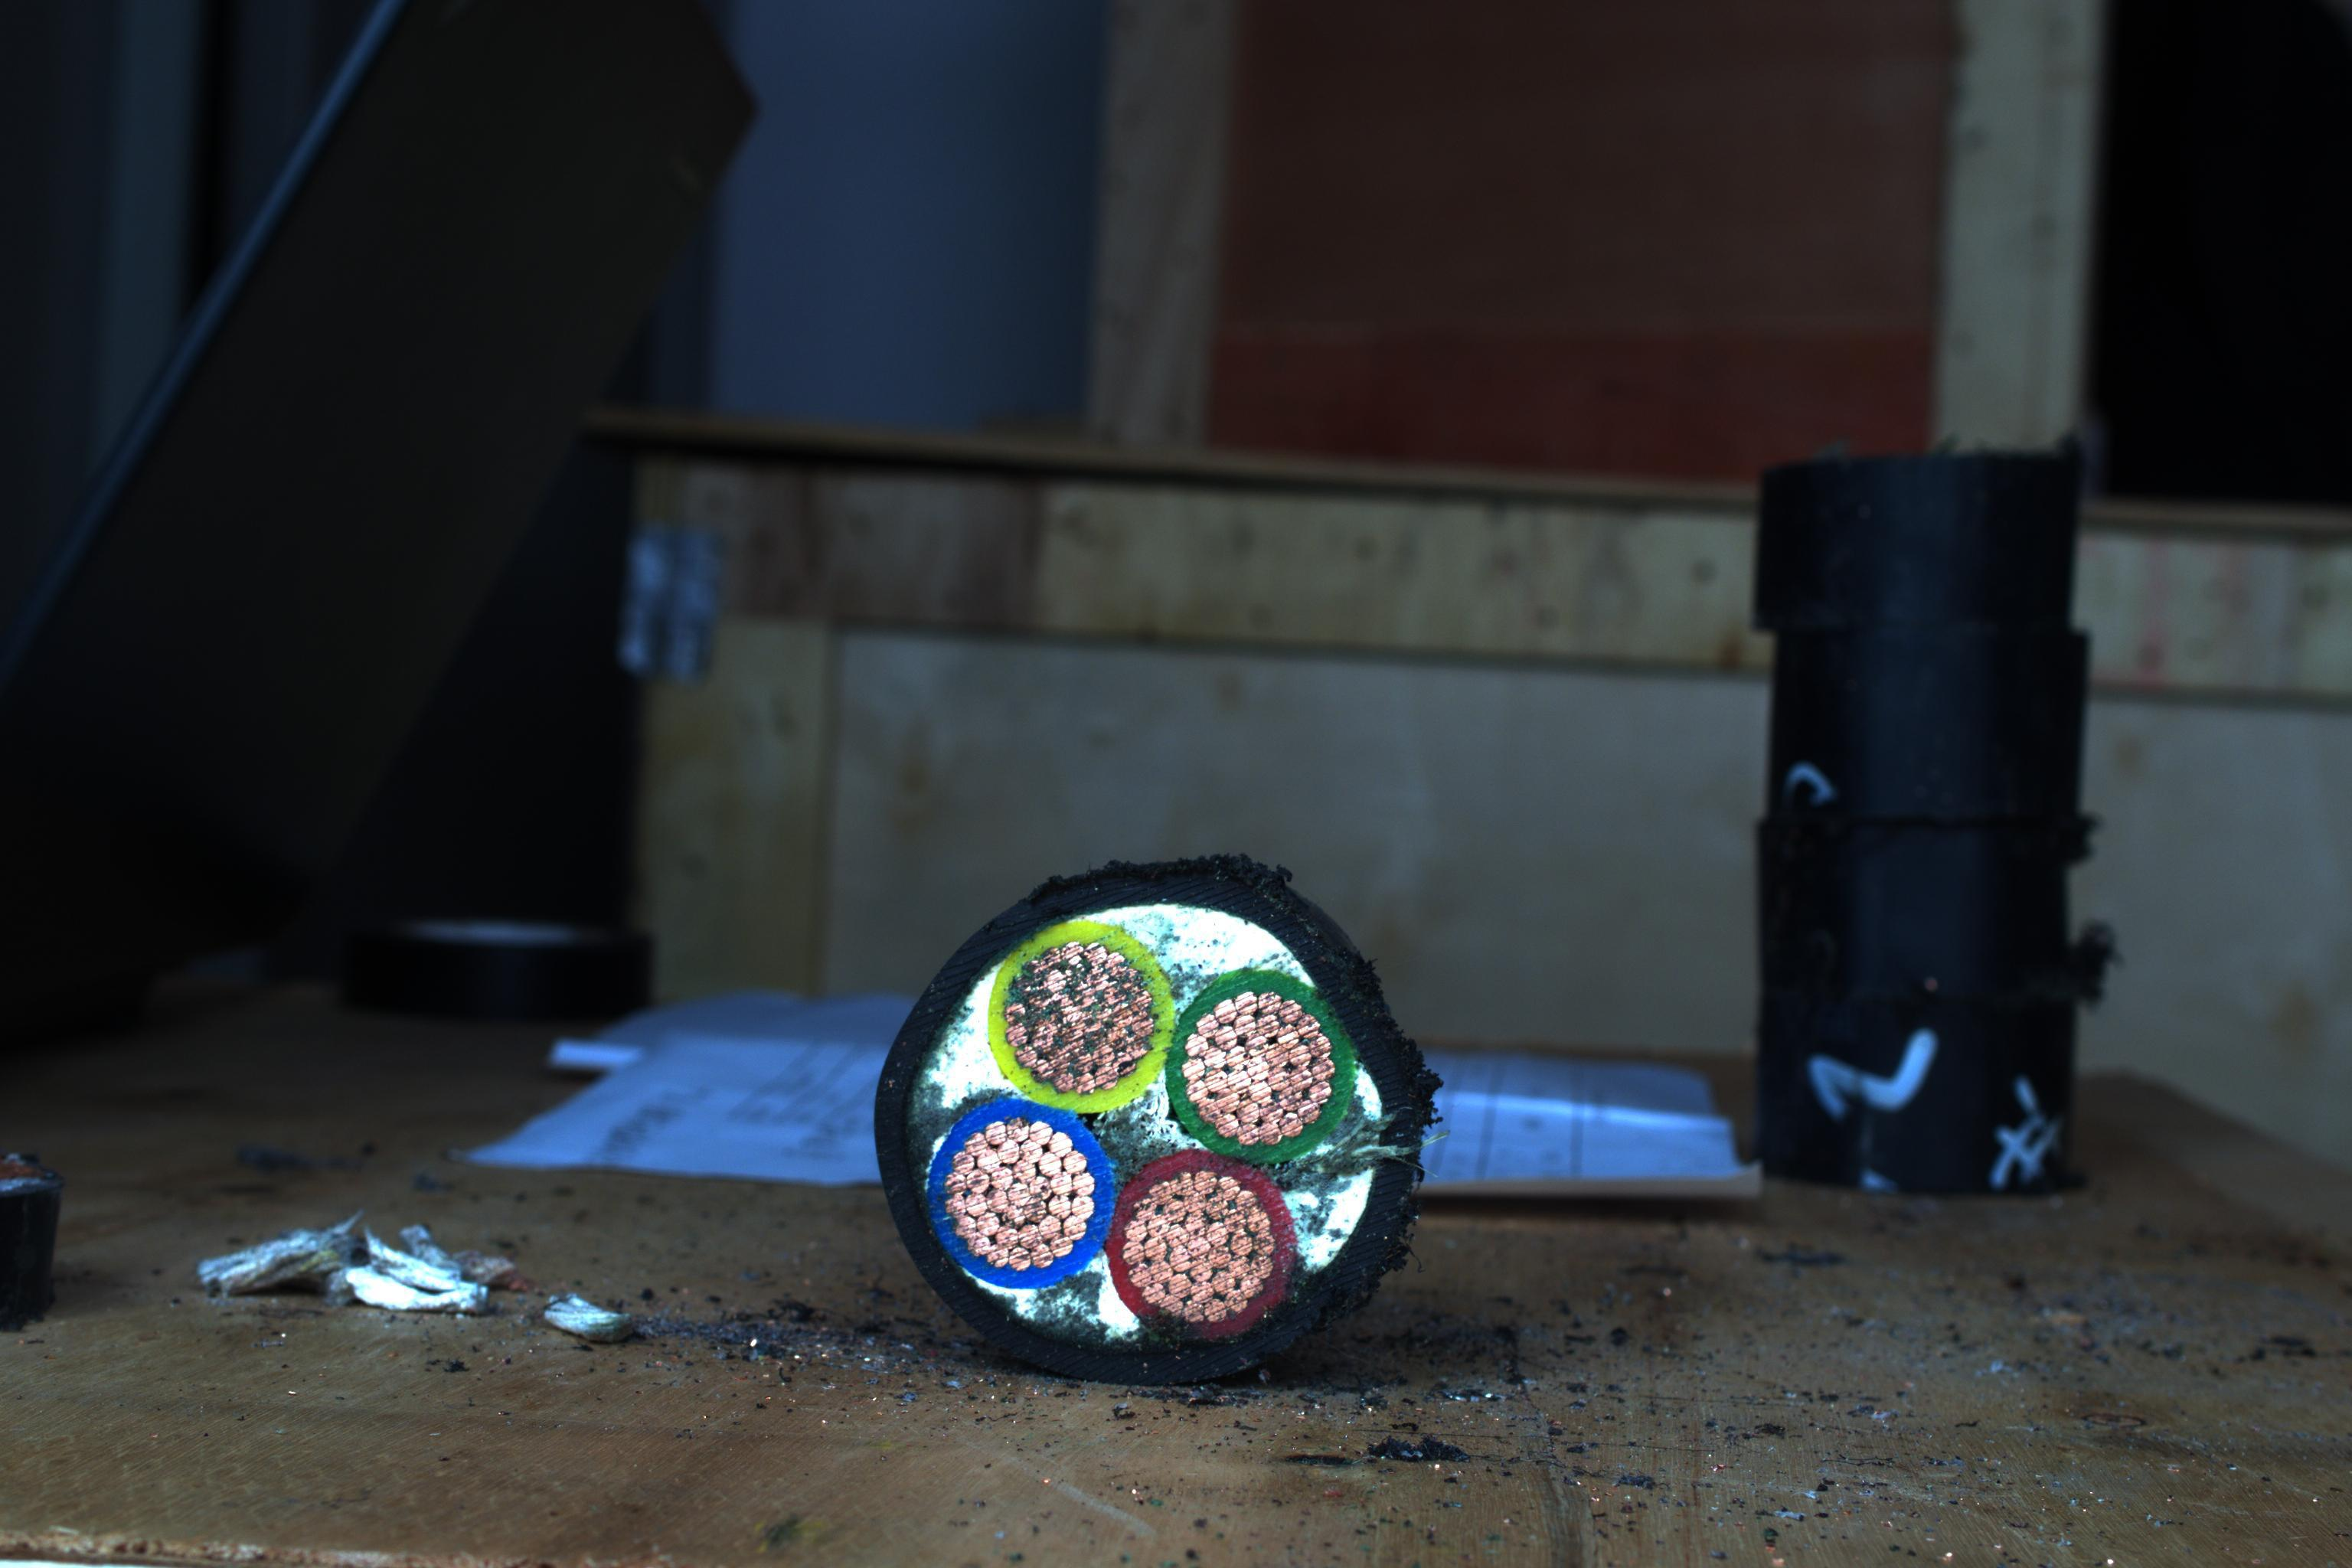YJV_0.6_1kV_4x185: (877, 871, 1402, 1388)
